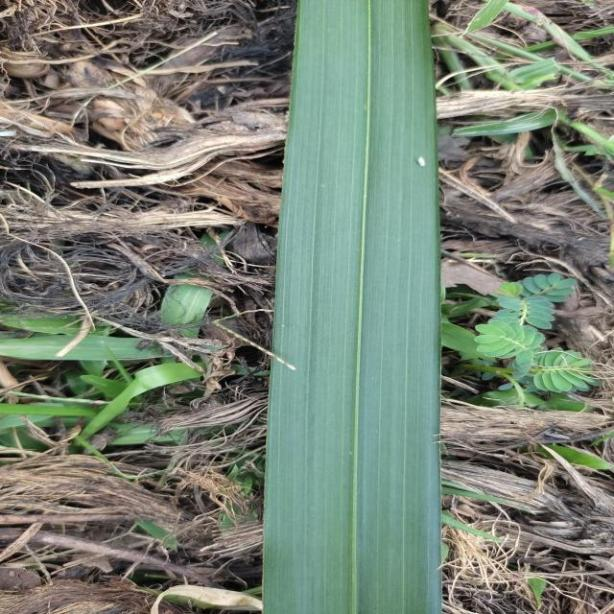Healthy: (259, 0, 438, 614)
